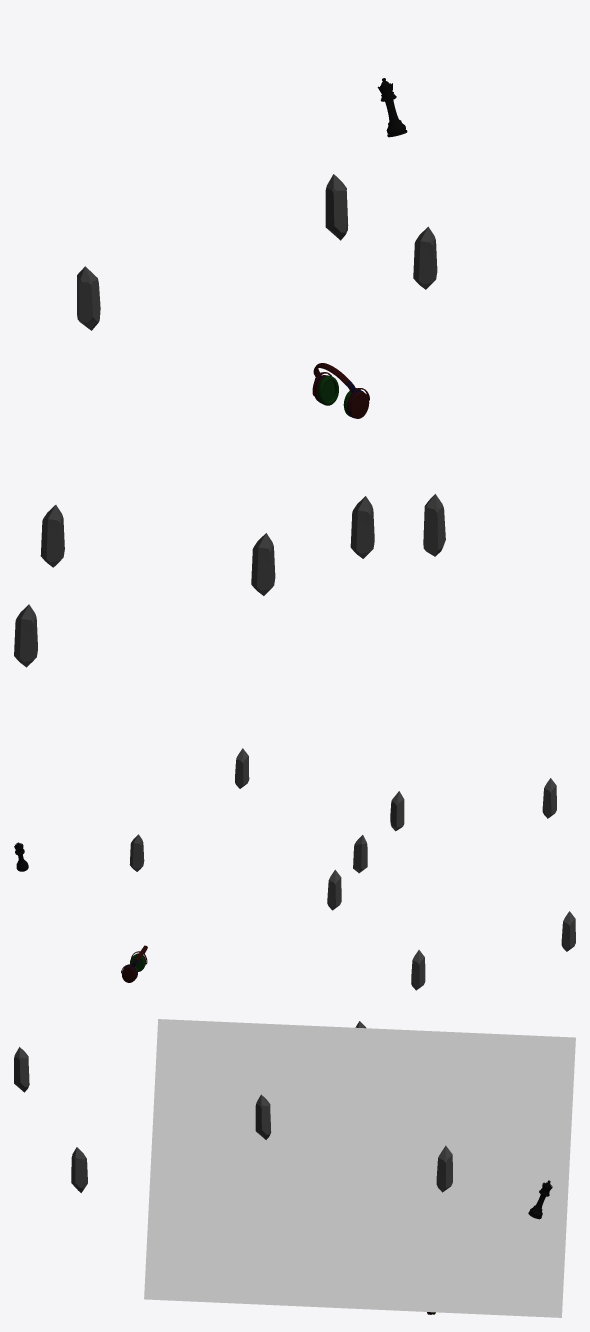
3 renders of one model, top to bottom at view 1: azimuth 30°, elevation 25°; view 2: azimuth 150°, elevation 25°; view 3: azimuth 270°, elevation 25°, orthographic. The views are drawn at different scales.
Parts seen in each view (by area): view 1: HeadSet, Crystal.001, Crystal, Crystal.004, Crystal.007, Crystal.005, Crystal.006, Crystal.003, Crystal.002; view 2: HeadSet, Crystal.002, Crystal.003, Crystal.005, Crystal.006, Crystal.004, Crystal.007, Crystal.001, Crystal; view 3: Plane.001, Crystal, Crystal.002, Crystal.007, Crystal.004.
Boxes of the visible parts, x1,y1,x2,y2 form: HeadSet: [312, 363, 369, 418]; Crystal.001: [77, 266, 100, 330]; Crystal: [325, 174, 348, 240]; Crystal.004: [251, 533, 275, 595]; Crystal.007: [413, 226, 437, 289]; Crystal.005: [40, 505, 64, 567]; Crystal.006: [14, 604, 37, 667]; Crystal.003: [350, 496, 374, 558]; Crystal.002: [423, 494, 445, 556]; HeadSet: [121, 945, 147, 982]; Crystal.002: [390, 791, 404, 831]; Crystal.003: [327, 869, 341, 910]; Crystal.005: [411, 950, 425, 990]; Crystal.006: [561, 911, 575, 951]; Crystal.004: [542, 778, 556, 818]; Crystal.007: [235, 748, 249, 788]; Crystal.001: [353, 835, 367, 873]; Crystal: [129, 834, 144, 871]; Plane.001: [144, 1019, 575, 1317]; Crystal: [436, 1145, 452, 1192]; Crystal.002: [71, 1147, 87, 1192]; Crystal.007: [255, 1094, 271, 1139]; Crystal.004: [14, 1047, 29, 1092].
Size of the model in its own units: 54.12 by 27.63 by 58.07.
